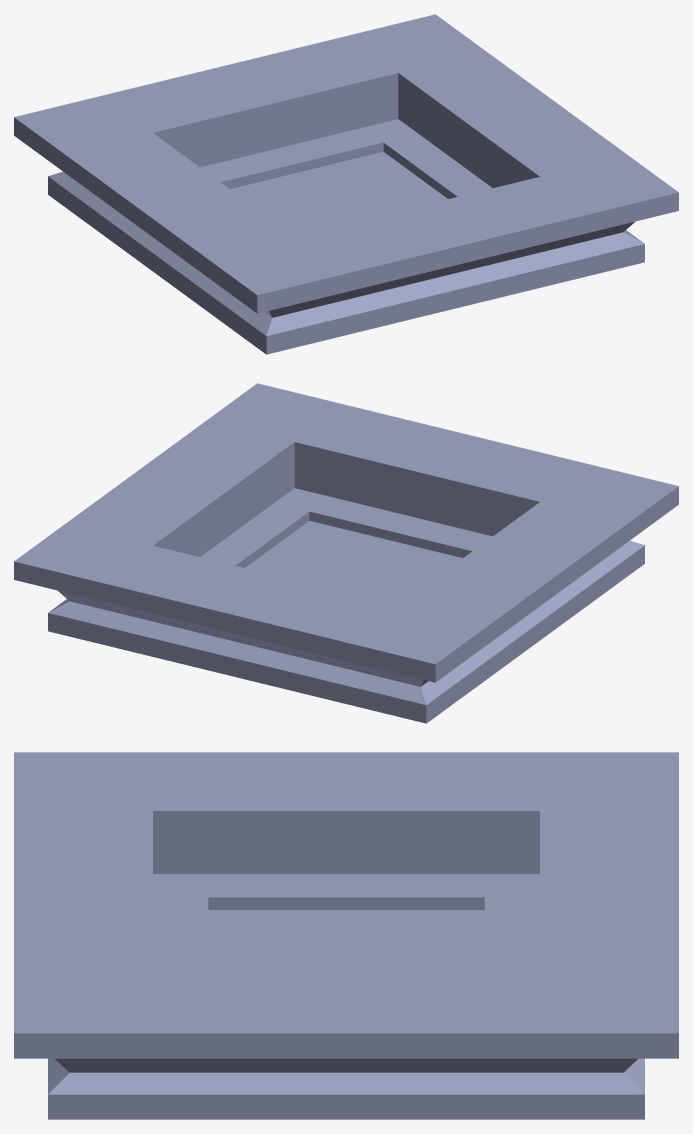
File: roof-flat-square.obj
The picture shows the model from 3 angles, top to bottom: view 1: azimuth 30°, elevation 25°; view 2: azimuth 150°, elevation 25°; view 3: azimuth 270°, elevation 25°; orthographic projection. The views are drawn at different scales.
Size of the model in its own units: 2.39 by 0.4 by 2.39.
